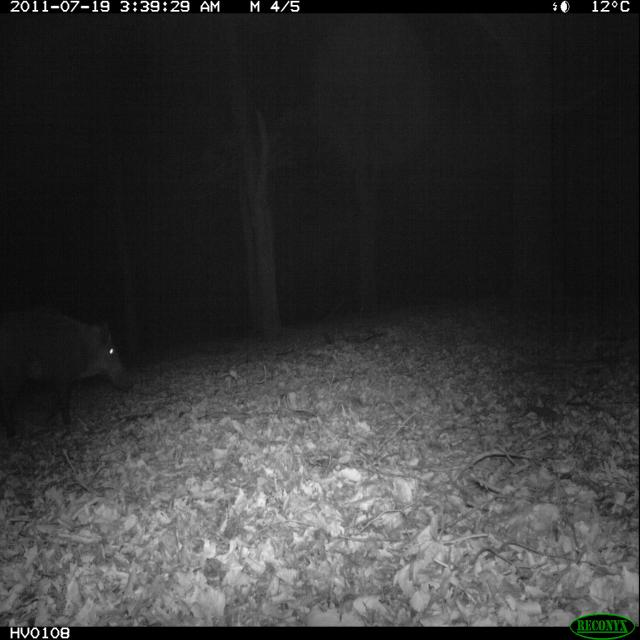boar: (5, 288, 126, 439)
